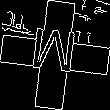M_S: (29, 27, 81, 83)
